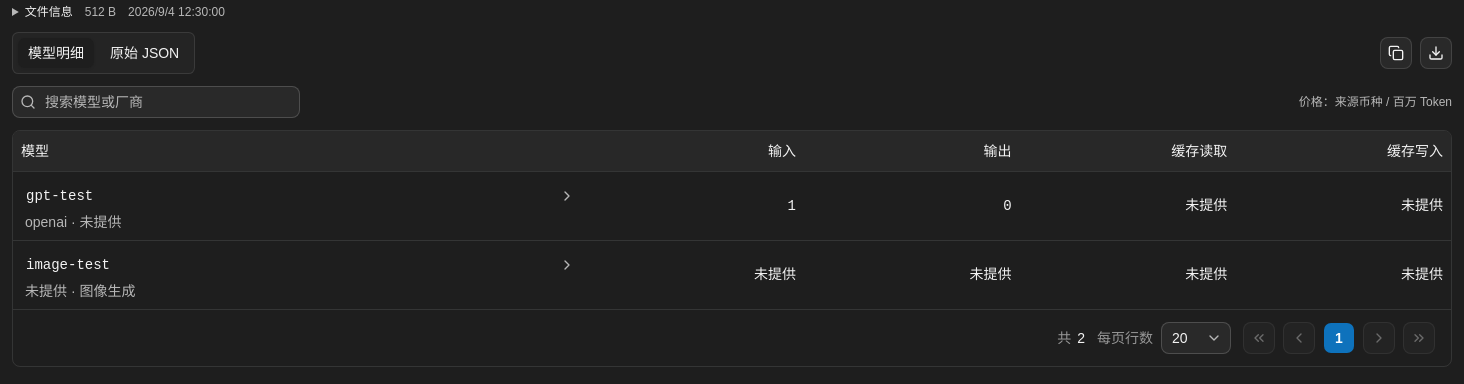
Test: 远程价卡阅读 › 图像模型没有 Token 价格时显示未提供，详情保留每张图像的单位
This screenshot has width=1464, height=384.
Expected: the text "未提供" is shown 4 times, top-left (588, 240), bottom-right (804, 308); top-left (804, 240), bottom-right (1020, 308); top-left (1020, 240), bottom-right (1235, 308); top-left (1235, 240), bottom-right (1451, 308)
Click the button with aria-label "查看 image-test 明细": (68, 264) top-left (21, 248), bottom-right (580, 280)
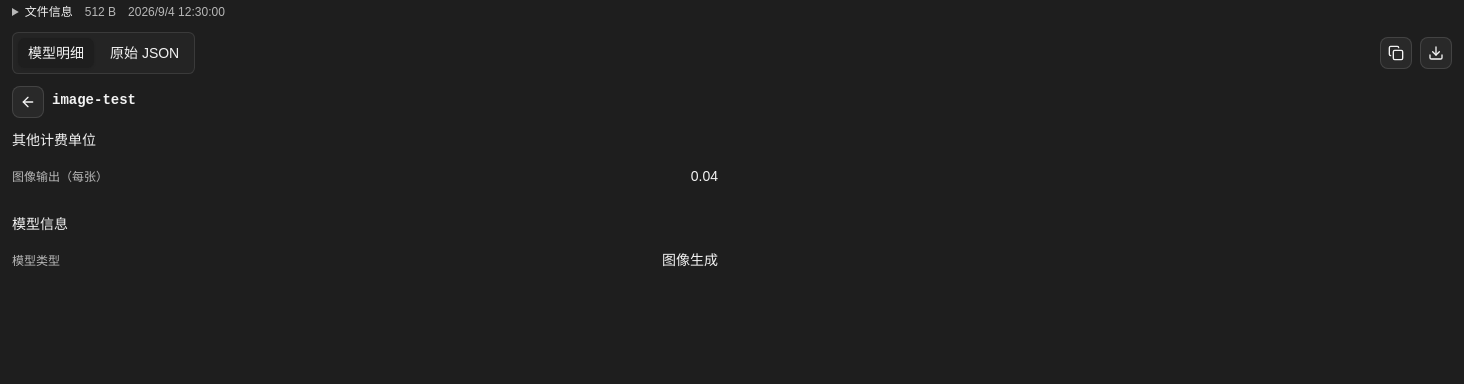
Expected: the text "图像输出（每张）" is shown, top-left (12, 169), bottom-right (108, 185)
Expected: the text "0.04" is shown, top-left (691, 166), bottom-right (718, 186)
